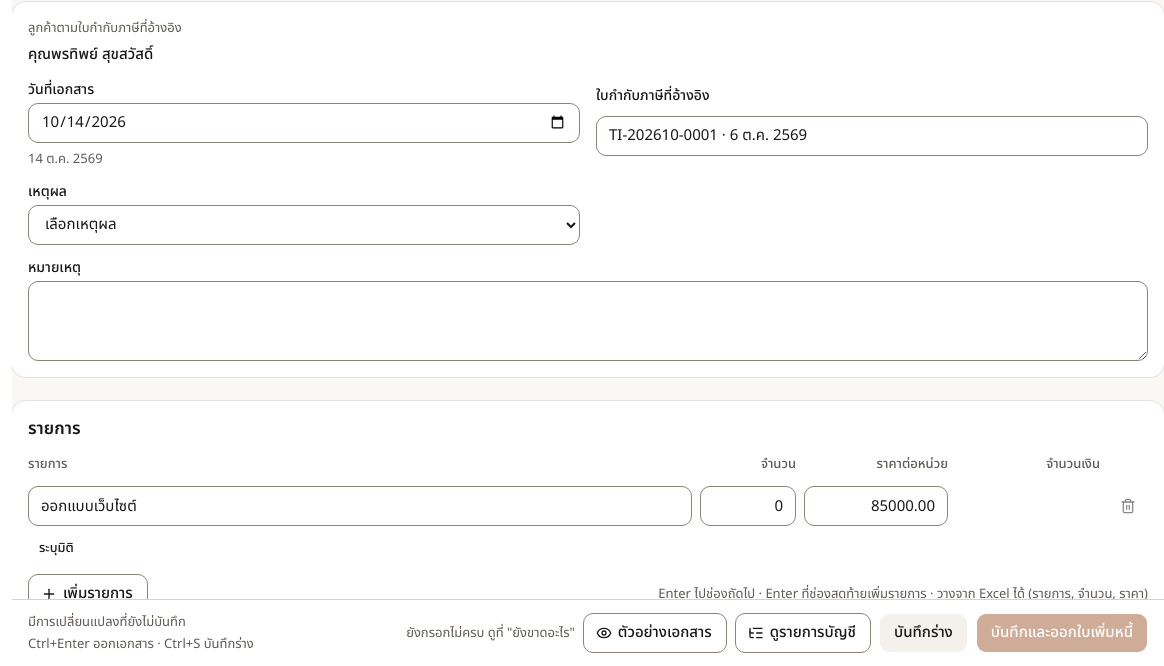
Test: R4: a debit note drops its untouched quantity-0 lines before saving › with every line at 0 the editor says a line is missing (its own item, not the server's per-line error); one real line is enough
Replace the text in the field named "จำนวน 1" with "1" at (748, 506), box [700,486,796,526]
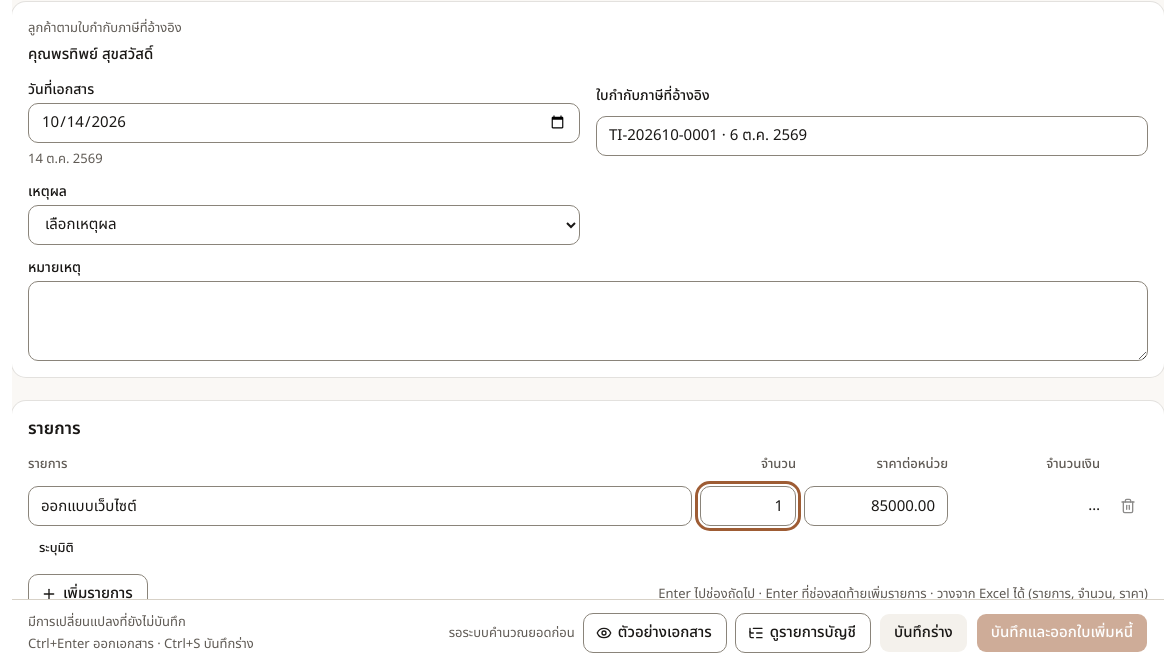
Press Tab
(page scrolled)
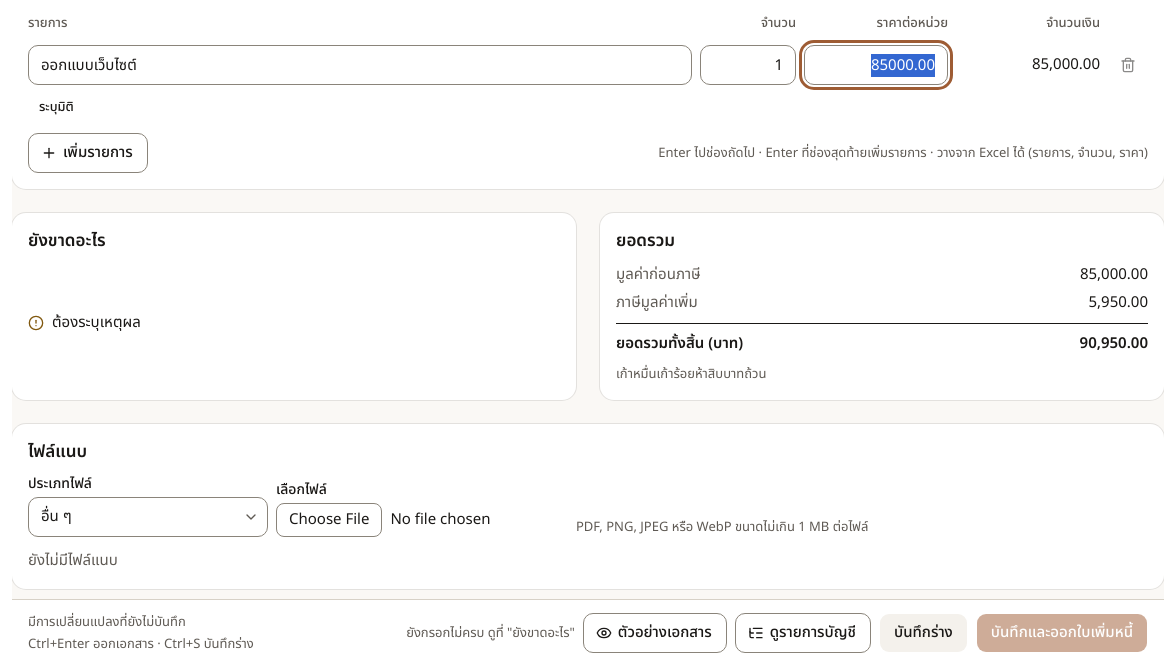
Expected: the element "ยังขาดอะไร" does not show "ต้องมียอดมากกว่า", [12,213,576,400]
Expected: the element "ยังขาดอะไร" no longer shows "ต้องมีรายการอย่างน้อย 1 รายการ", [12,213,576,400]
